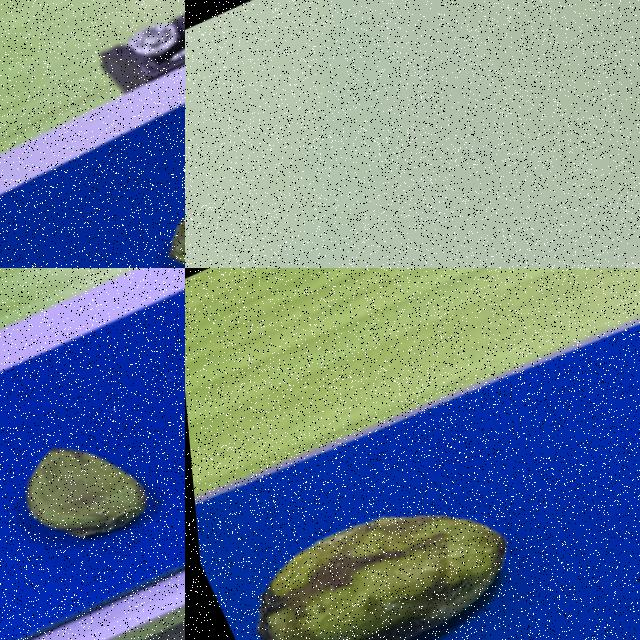Fine_cocoabeans: (186, 422, 615, 639)
Flat_cocoabeans: (0, 387, 184, 613), (46, 108, 184, 267)
